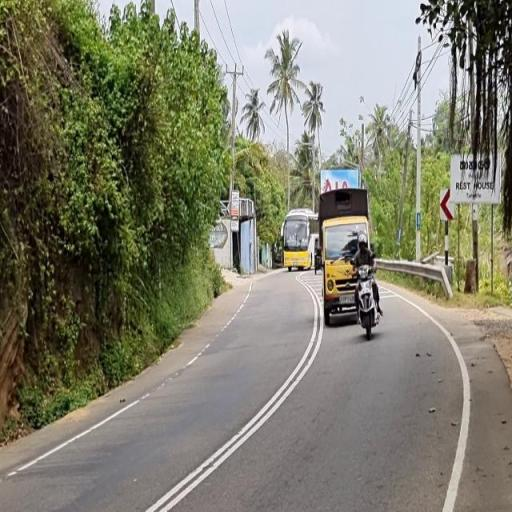double_white_line: (142, 284, 324, 510)
